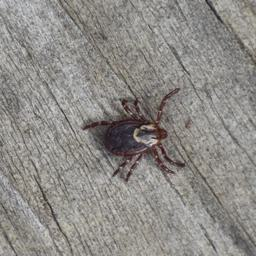Dermacentor variabilis: (85, 88, 187, 180)
